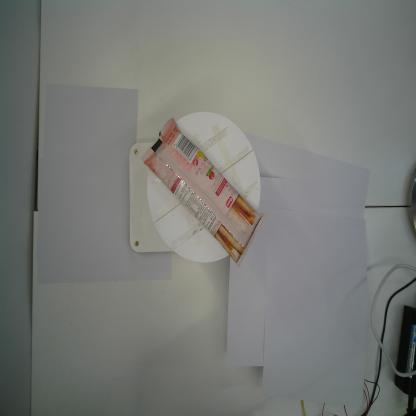Dessert: (140, 116, 267, 270)
